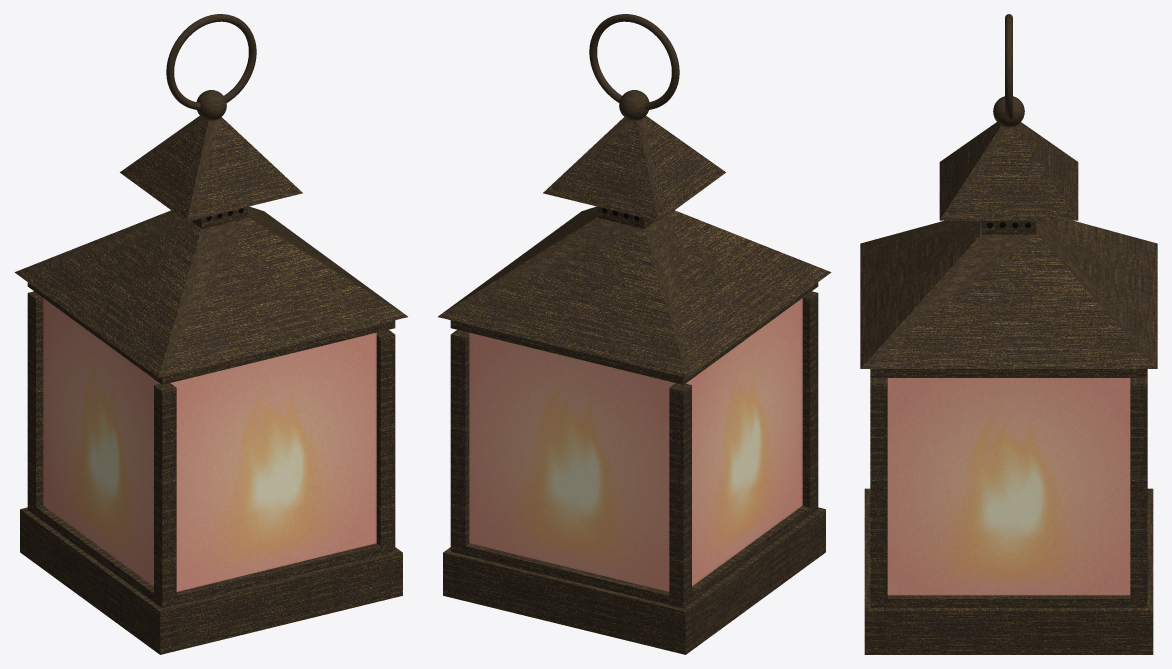
The model's file is lantern.obj.
3 views of the same model, side by side, from view 1: azimuth 30°, elevation 25°; view 2: azimuth 150°, elevation 25°; view 3: azimuth 270°, elevation 25° (orthographic). The views are drawn at different scales.
Parts seen in each view (by area): view 1: metal, glass; view 2: metal, glass; view 3: metal, glass.
Boxes of the visible parts, x1,y1,x2,y2 form: metal: (14,14,407,654); glass: (43,298,376,591); metal: (438,14,831,654); glass: (469,298,802,591); metal: (860,14,1157,654); glass: (887,378,1130,595).
Bounding box in the file's own units: 1.03 × 2.2 × 1.03.
4 materials, 2 textured.
